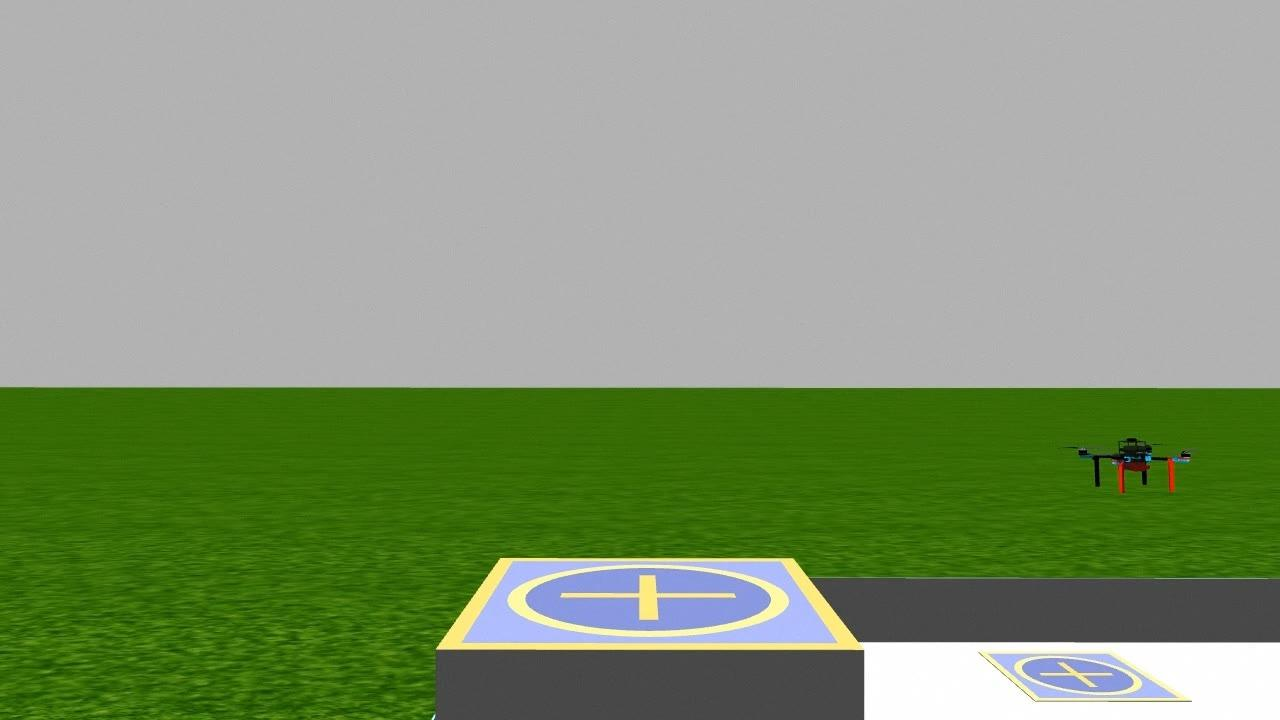UAV: (1048, 424, 1216, 500)
